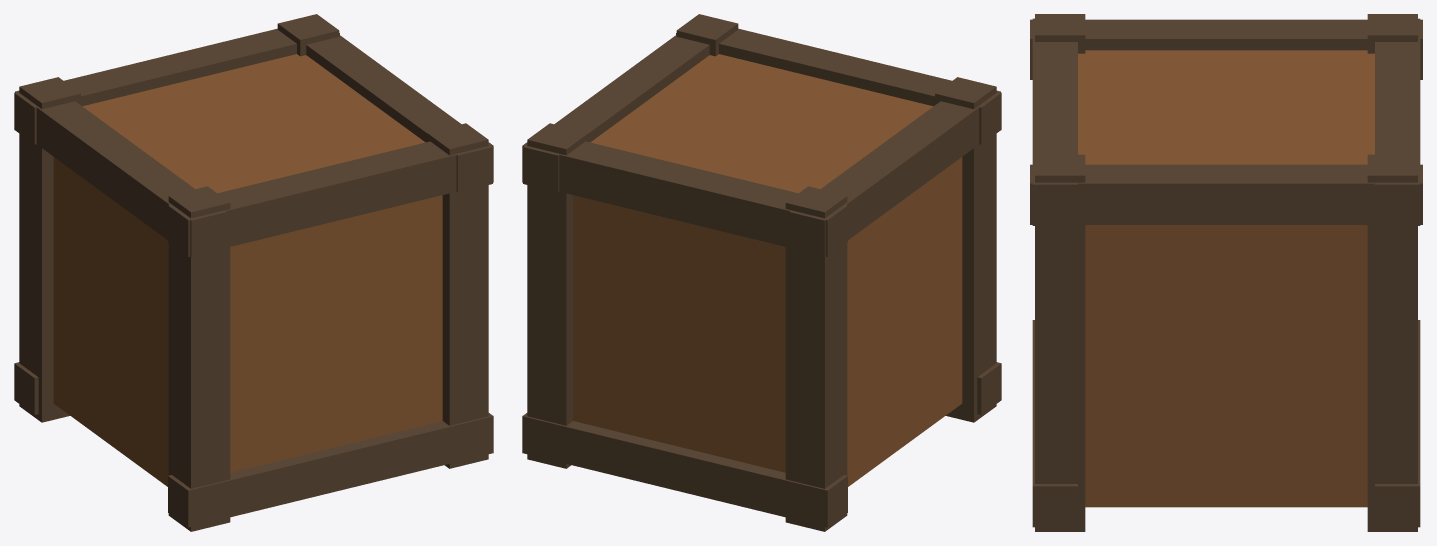
Rendered from wooden_crate.glb.
The picture shows the model from 3 angles, left to right: view 1: azimuth 30°, elevation 25°; view 2: azimuth 150°, elevation 25°; view 3: azimuth 270°, elevation 25°; orthographic projection. The views are drawn at different scales.
Parts seen in each view (by area): view 1: crate_body, crate_post_0, crate_rail_bottom, crate_rail_x0, crate_post_1, crate_rail_z0, crate_post_2, crate_rail_x1, crate_rail_z1, crate_post_3, crate_rail_bottom2; view 2: crate_body, crate_post_2, crate_rail_bottom2, crate_rail_x1, crate_post_3, crate_rail_z0, crate_post_0, crate_rail_x0, crate_rail_z1, crate_post_1, crate_rail_bottom; view 3: crate_body, crate_rail_z1, crate_post_1, crate_post_3, crate_rail_z0, crate_rail_x0, crate_rail_x1, crate_rail_bottom, crate_rail_bottom2, crate_post_0, crate_post_2.
Boxes of the visible parts, left/top/right/bottom form: crate_body: left=53, top=54, right=442, bottom=486; crate_post_0: left=168, top=186, right=230, bottom=531; crate_rail_bottom: left=168, top=413, right=493, bottom=527; crate_rail_x0: left=168, top=141, right=493, bottom=256; crate_post_1: left=427, top=123, right=488, bottom=468; crate_rail_z0: left=15, top=90, right=226, bottom=257; crate_post_2: left=19, top=77, right=80, bottom=422; crate_rail_x1: left=14, top=28, right=339, bottom=144; crate_rail_z1: left=306, top=35, right=492, bottom=192; crate_post_3: left=277, top=14, right=339, bottom=56; crate_rail_bottom2: left=14, top=362, right=38, bottom=414; crate_body: left=573, top=54, right=962, bottom=486; crate_post_2: left=785, top=186, right=847, bottom=531; crate_rail_bottom2: left=522, top=413, right=847, bottom=527; crate_rail_x1: left=522, top=141, right=847, bottom=256; crate_post_3: left=527, top=123, right=588, bottom=468; crate_rail_z0: left=789, top=90, right=1000, bottom=257; crate_post_0: left=935, top=77, right=996, bottom=422; crate_rail_x0: left=676, top=28, right=1001, bottom=144; crate_rail_z1: left=523, top=35, right=709, bottom=192; crate_post_1: left=676, top=14, right=738, bottom=56; crate_rail_bottom: left=977, top=362, right=1001, bottom=414; crate_body: left=1078, top=50, right=1374, bottom=507; crate_rail_z1: left=1030, top=164, right=1422, bottom=224; crate_post_1: left=1035, top=154, right=1085, bottom=531; crate_post_3: left=1367, top=154, right=1417, bottom=531; crate_rail_z0: left=1030, top=19, right=1422, bottom=79; crate_rail_x0: left=1032, top=18, right=1077, bottom=225; crate_rail_x1: left=1375, top=18, right=1420, bottom=225; crate_rail_bottom: left=1032, top=320, right=1077, bottom=527; crate_rail_bottom2: left=1375, top=320, right=1420, bottom=527; crate_post_0: left=1035, top=14, right=1085, bottom=53; crate_post_2: left=1367, top=14, right=1417, bottom=53.
Size of the model in its own units: 0.78 by 0.78 by 0.78.
